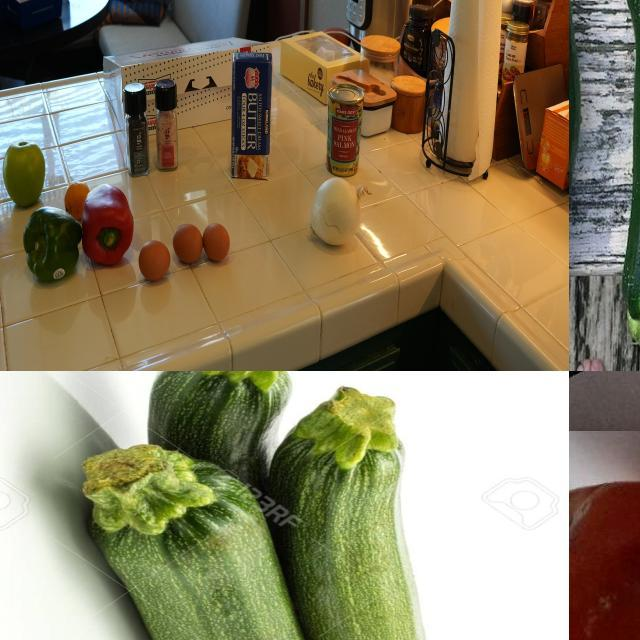bell_pepper: (78, 184, 142, 270), (20, 208, 86, 286), (122, 81, 157, 177)
egg: (139, 238, 172, 284), (174, 222, 205, 269), (204, 222, 232, 267)
onion: (307, 175, 371, 251)
zucchini: (37, 450, 350, 640), (608, 1, 640, 342)
